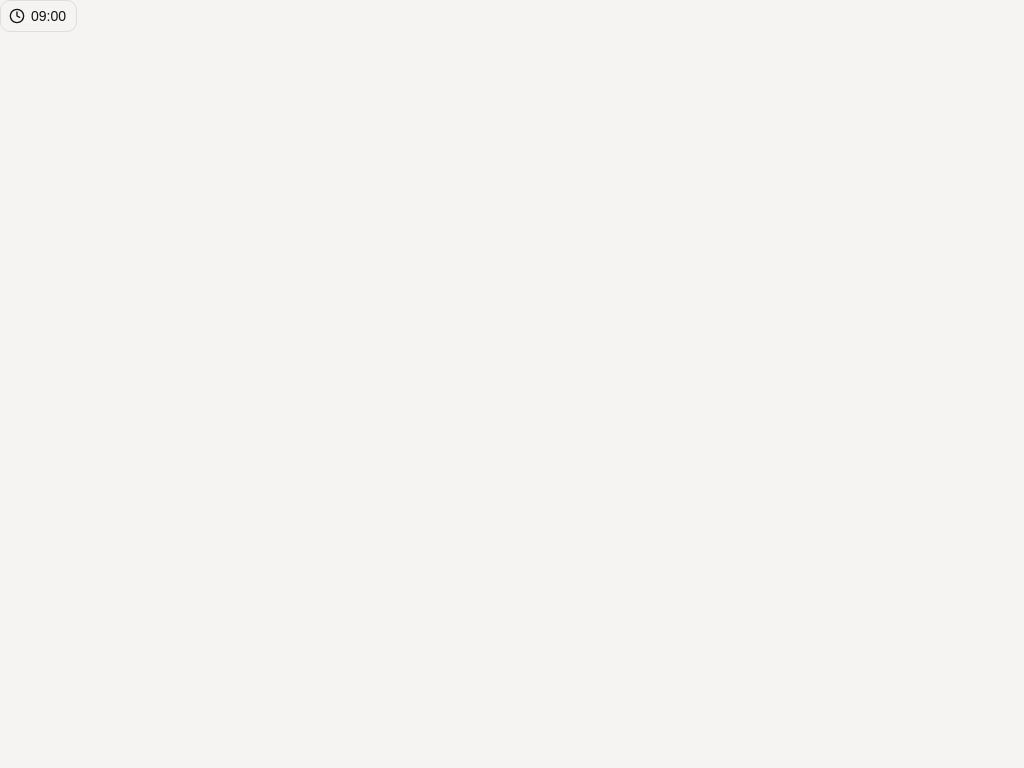
Test: TimePicker › commits and closes when picking a minute
Click the button. click: (38, 16)
box: [0,0,77,32]
(page scrolled)
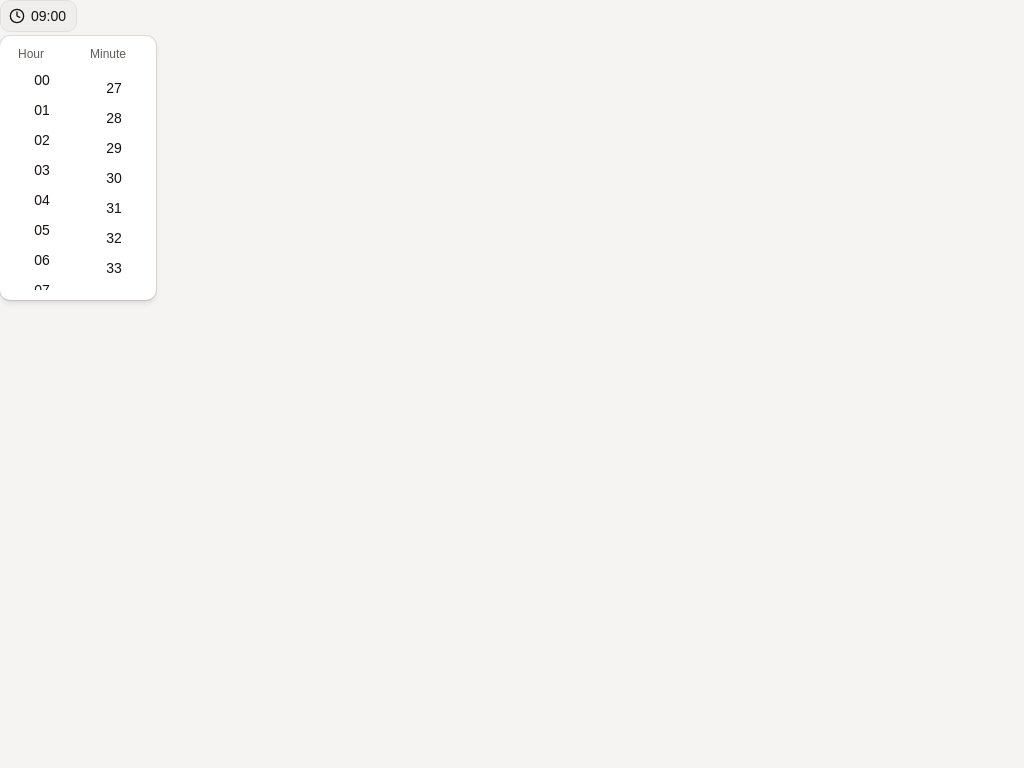
Click the option "30". click: (114, 178)
box: [106,170,122,186]
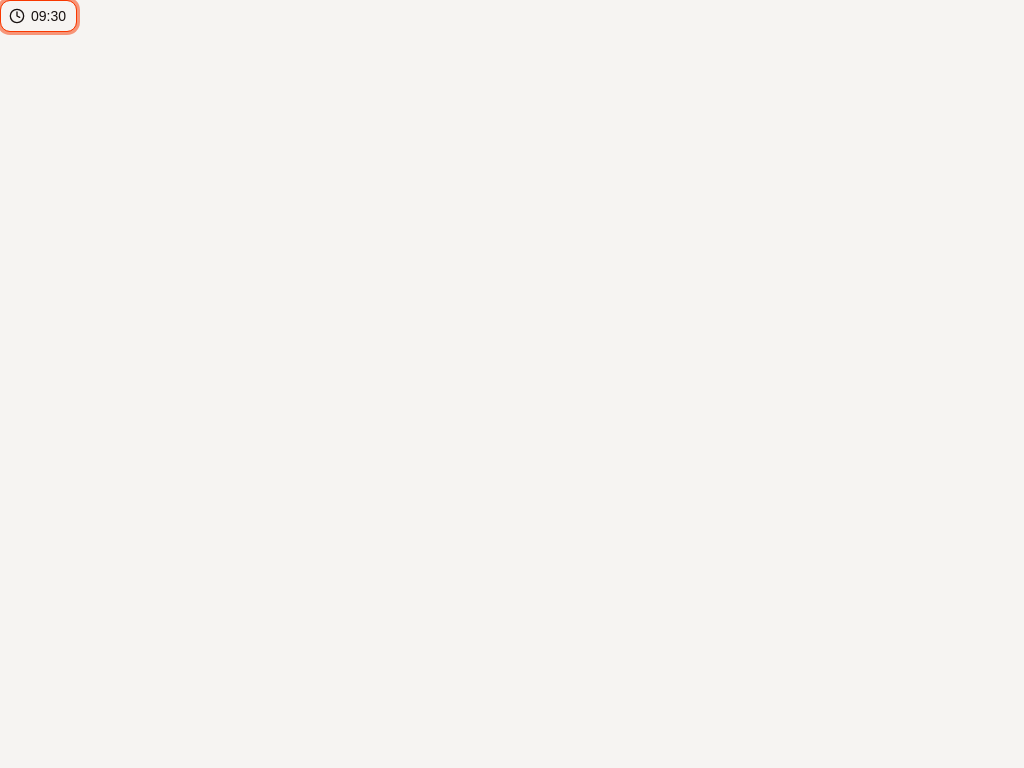
Expected: the list is gone
Expected: the button reads "09:30", [0,0,77,32]
